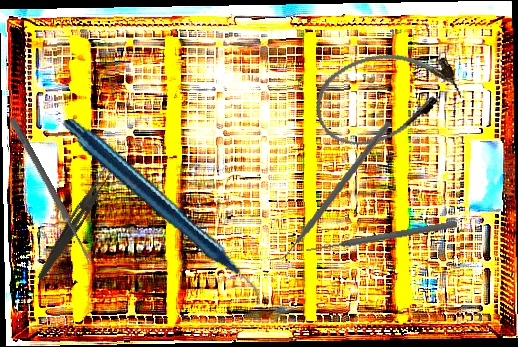Cannula: (306, 35, 467, 157)
Chopper: (268, 111, 391, 271)
Dressing Forceps: (35, 165, 113, 284)
Handpiece: (61, 87, 263, 338)
Pusher: (305, 218, 458, 256)
Surgical Spoon: (8, 117, 95, 265)
